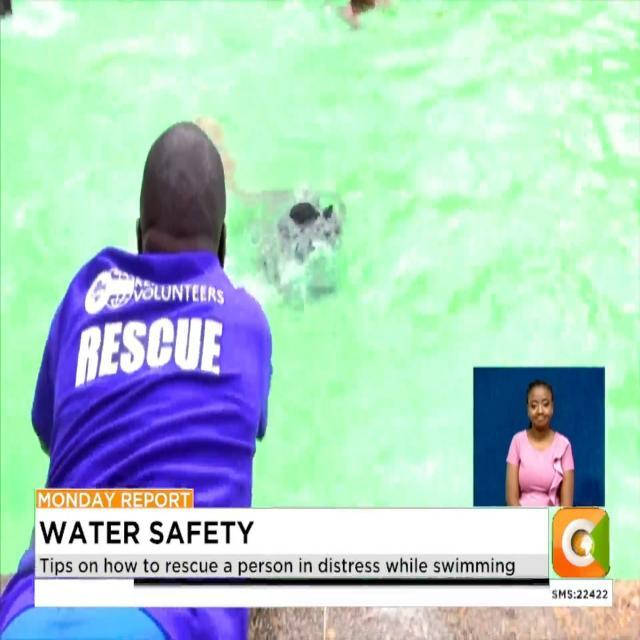drowning: (235, 167, 354, 316)
out of water: (43, 100, 265, 634)
